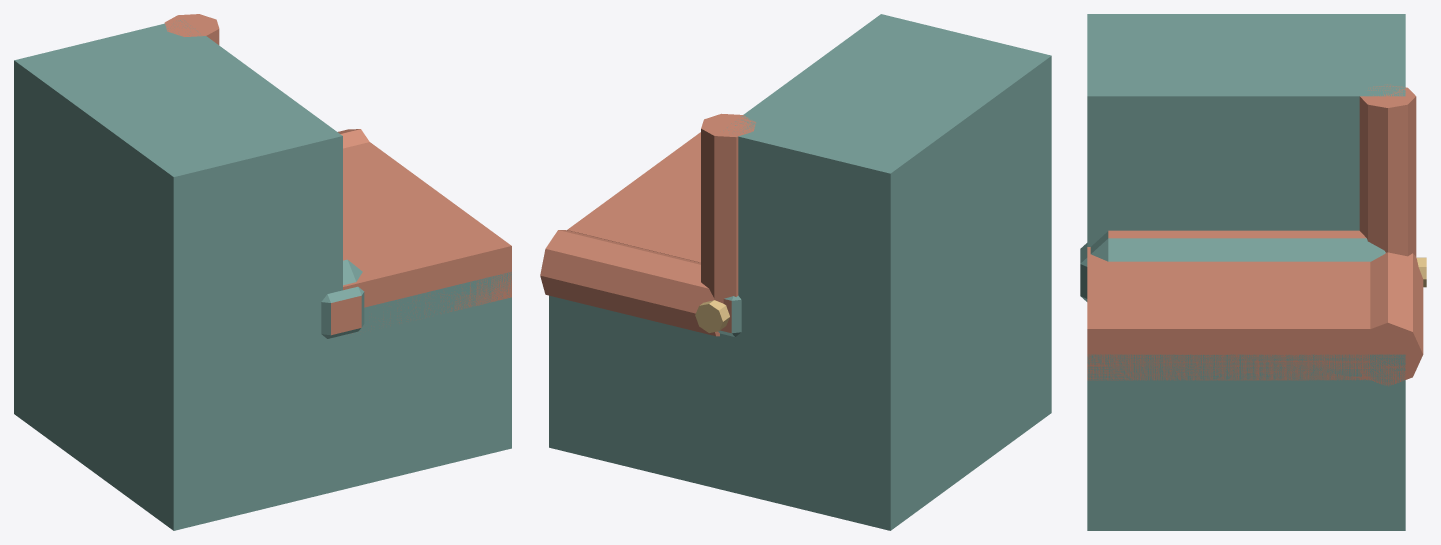
File: TH_Tile_11.fbx
3 renders of one model, left to right at view 1: azimuth 30°, elevation 25°; view 2: azimuth 150°, elevation 25°; view 3: azimuth 270°, elevation 25°, orthographic.
Visible parts, largest first — view 1: TH_Tile_11; view 2: TH_Tile_11; view 3: TH_Tile_11.
Part boxes in pixels (left/top/right/bottom): TH_Tile_11: left=14, top=14, right=511, bottom=530; TH_Tile_11: left=540, top=14, right=1051, bottom=530; TH_Tile_11: left=1080, top=14, right=1426, bottom=530.
Size of the model in its own units: 1.1 by 1.1 by 0.98.
